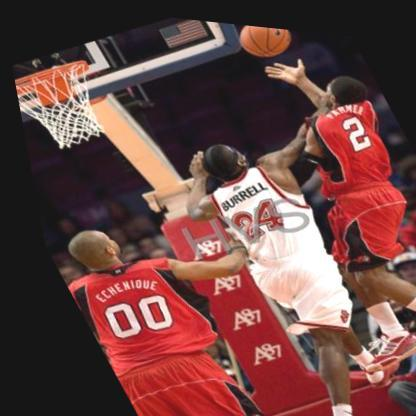basketball: (230, 19, 300, 61)
